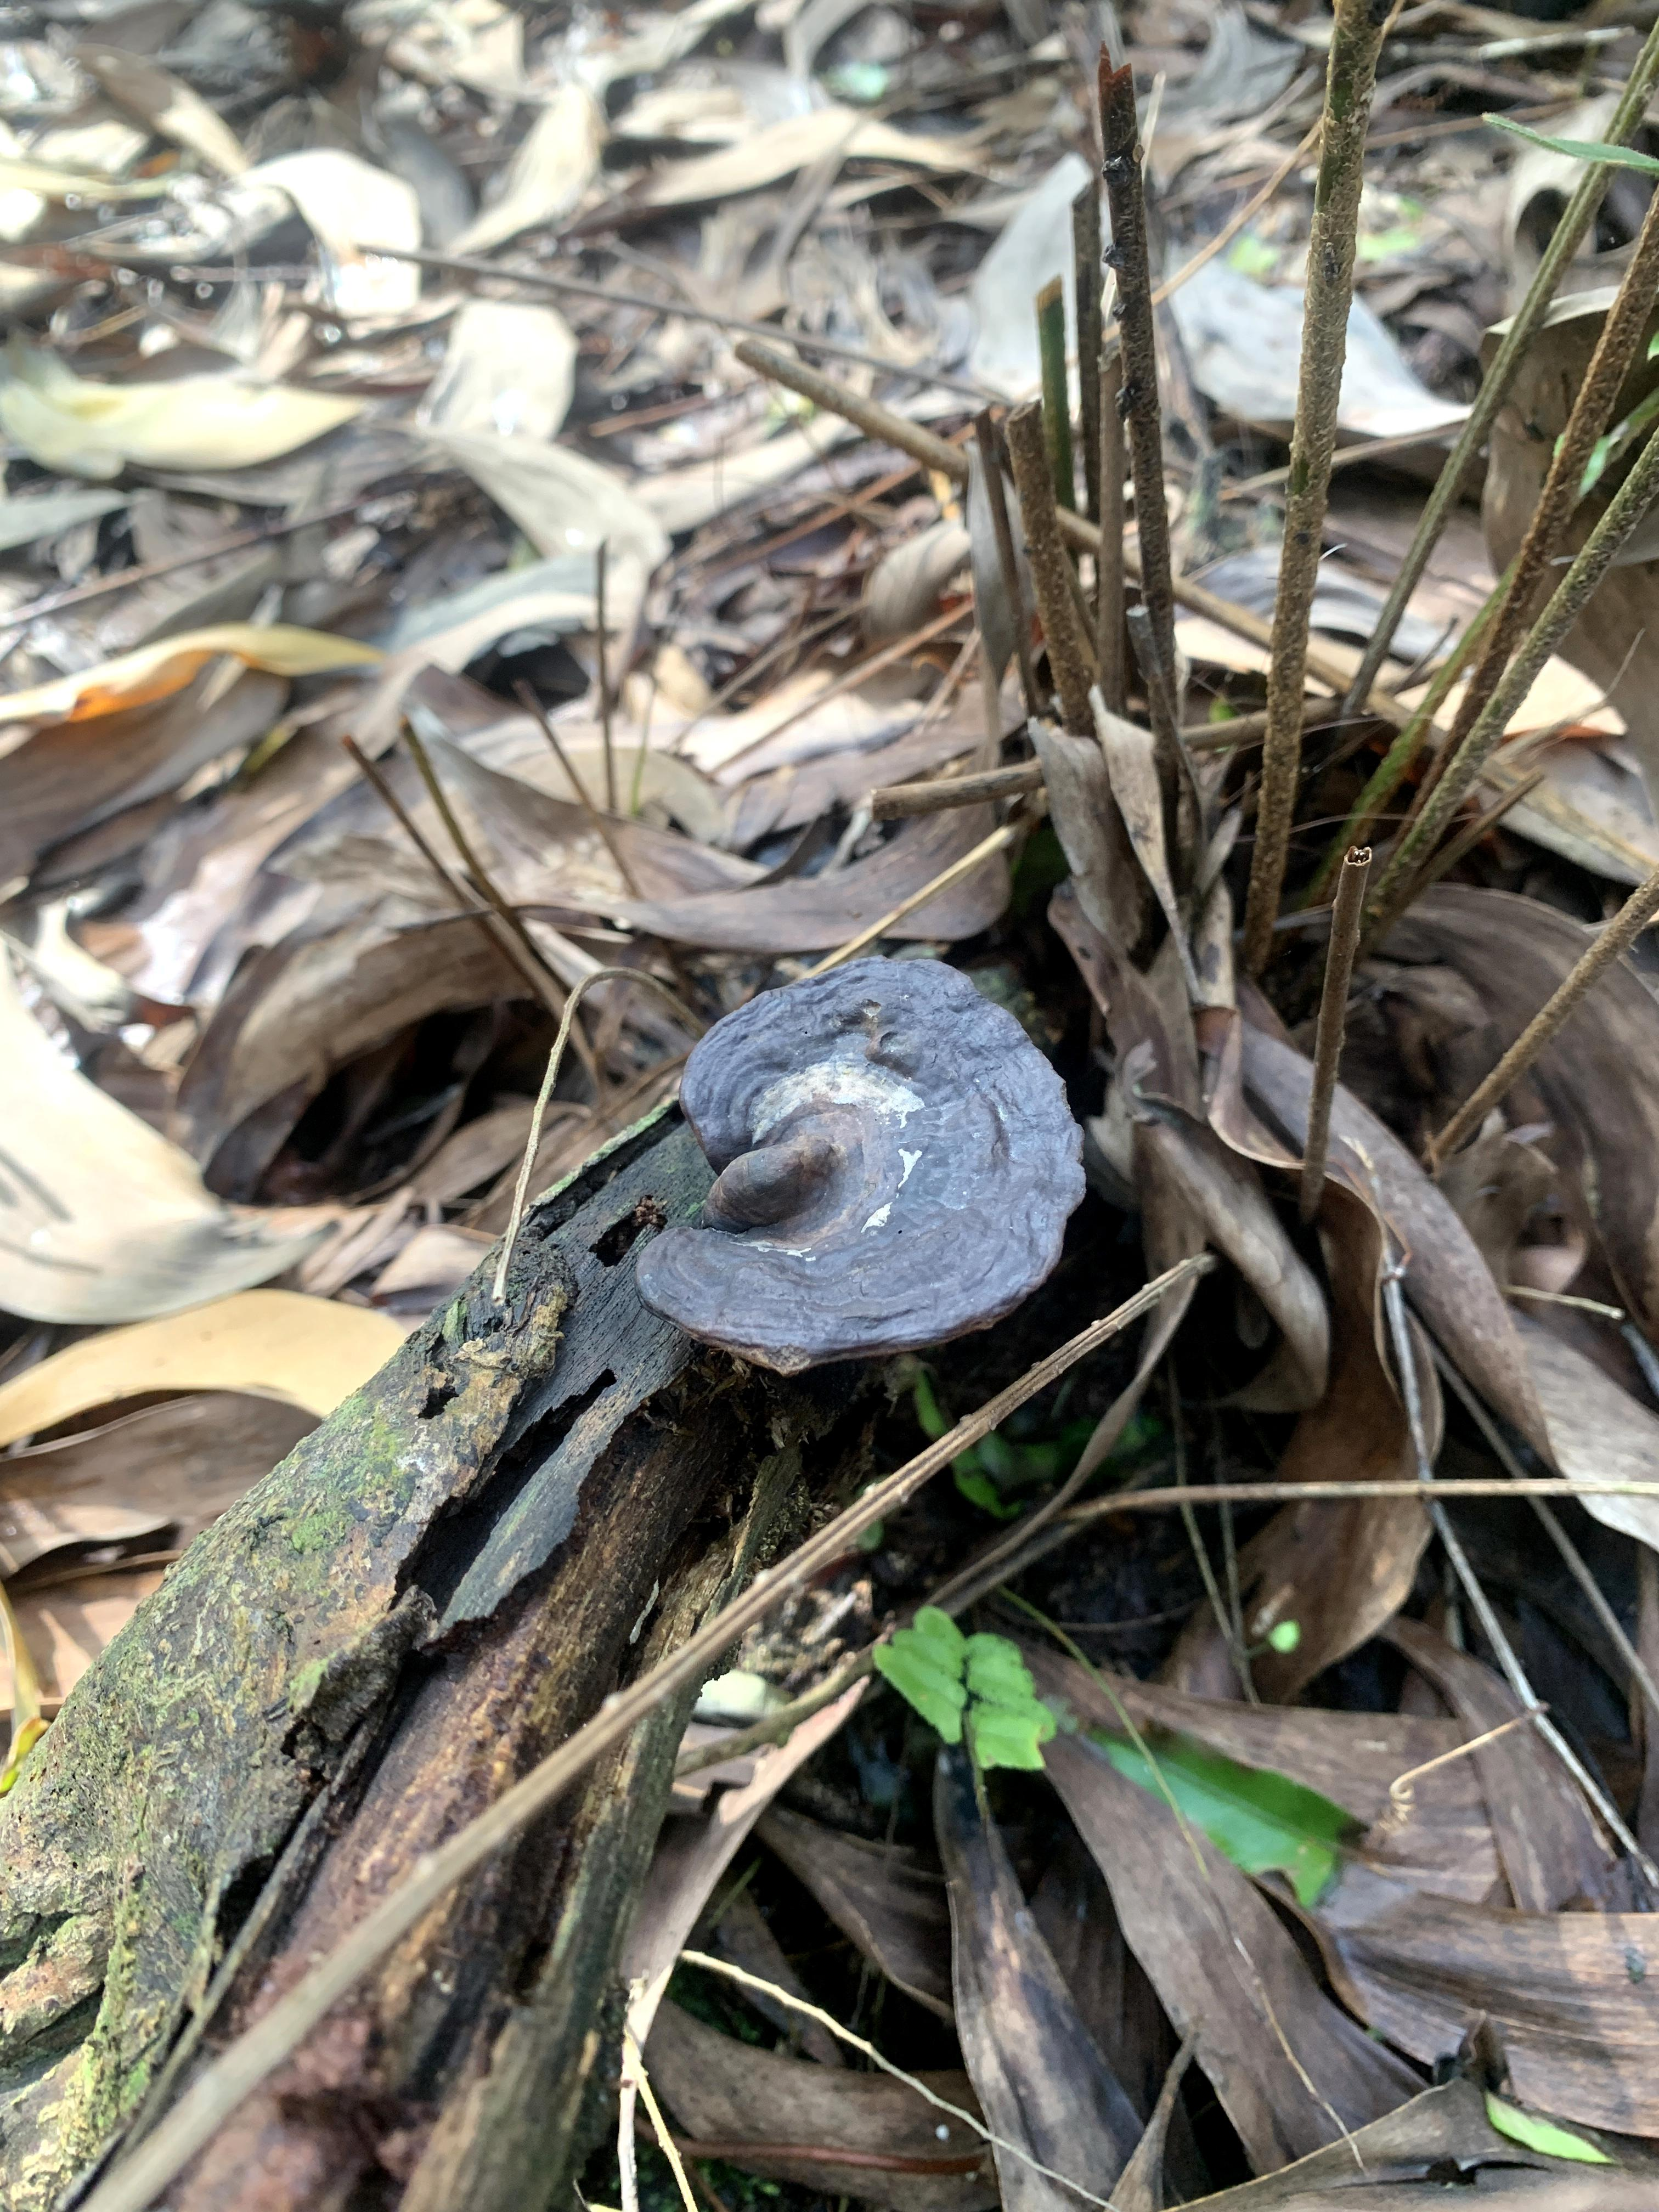Ganoderma - Fruit Body: (692, 972, 1105, 1366)
